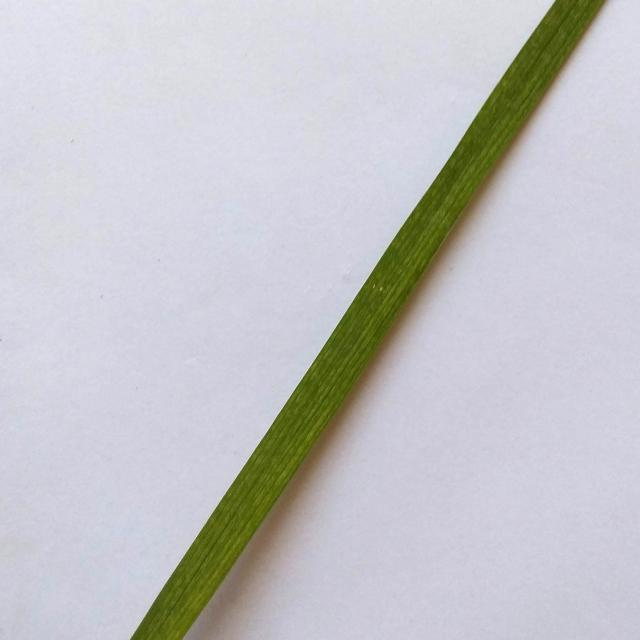Rice_Healthy: (130, 0, 604, 640)
